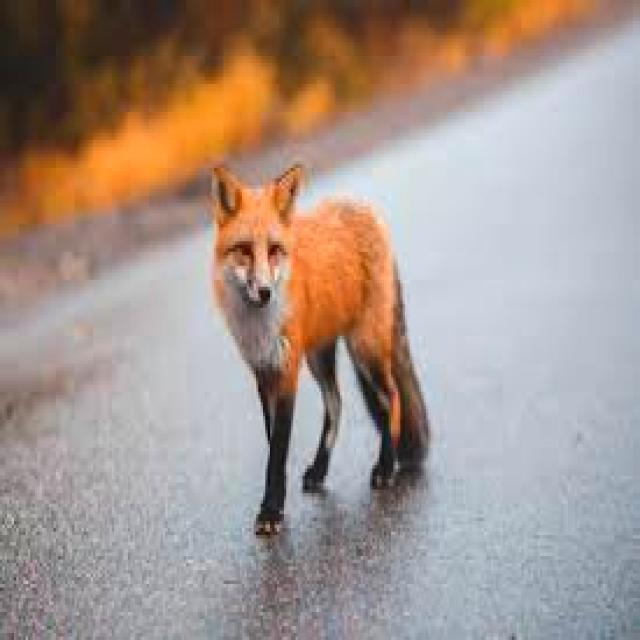fox: (212, 164, 428, 532)
